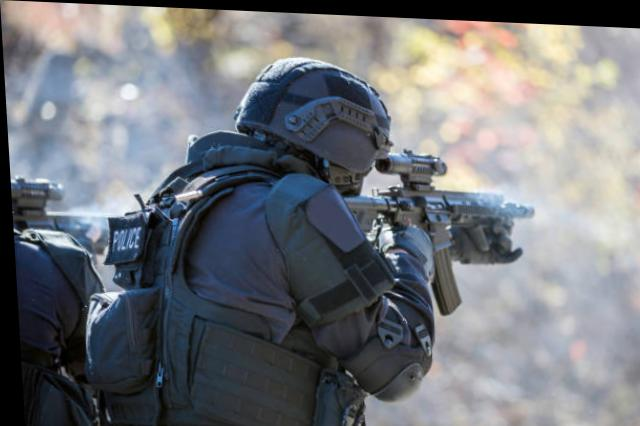other: (110, 47, 444, 424)
